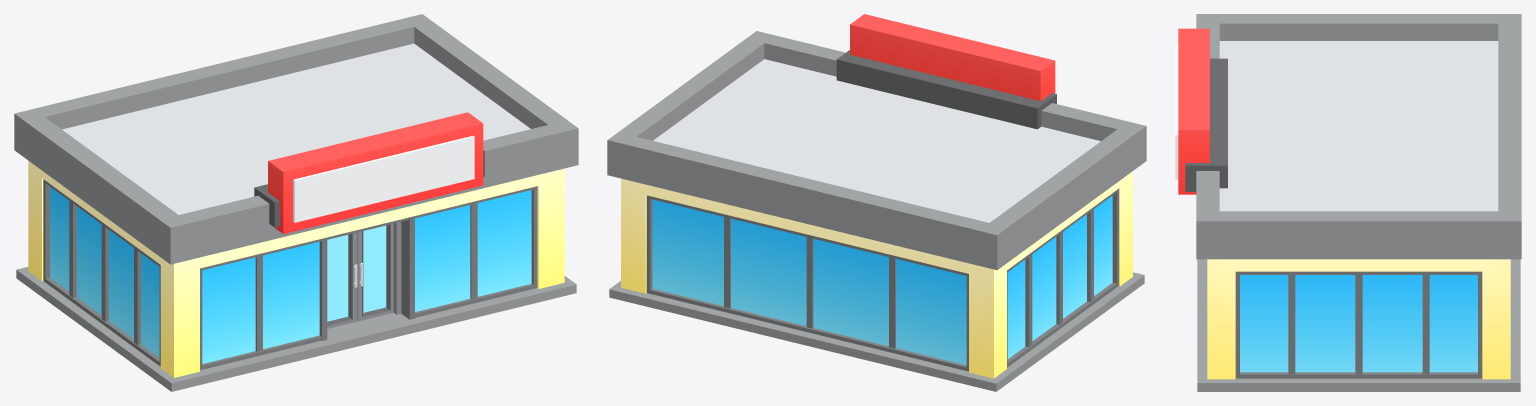
The model's file is Building_Supermarket_09.glb.
3 views of the same model, side by side, from view 1: azimuth 30°, elevation 25°; view 2: azimuth 150°, elevation 25°; view 3: azimuth 270°, elevation 25° (orthographic). The views are drawn at different scales.
Parts seen in each view (by area): view 1: Building_Supermarket_09; view 2: Building_Supermarket_09; view 3: Building_Supermarket_09.
Part boxes in pixels (x1,y1,x2,y2): Building_Supermarket_09: (14,14,578,391); Building_Supermarket_09: (607,14,1146,391); Building_Supermarket_09: (1175,14,1521,391).
Bounding box in the file's own units: 9.93 × 4.68 × 7.01.
1 material, 1 textured.
